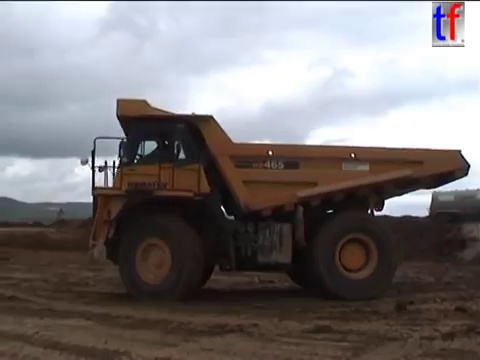truck: (78, 95, 472, 303)
